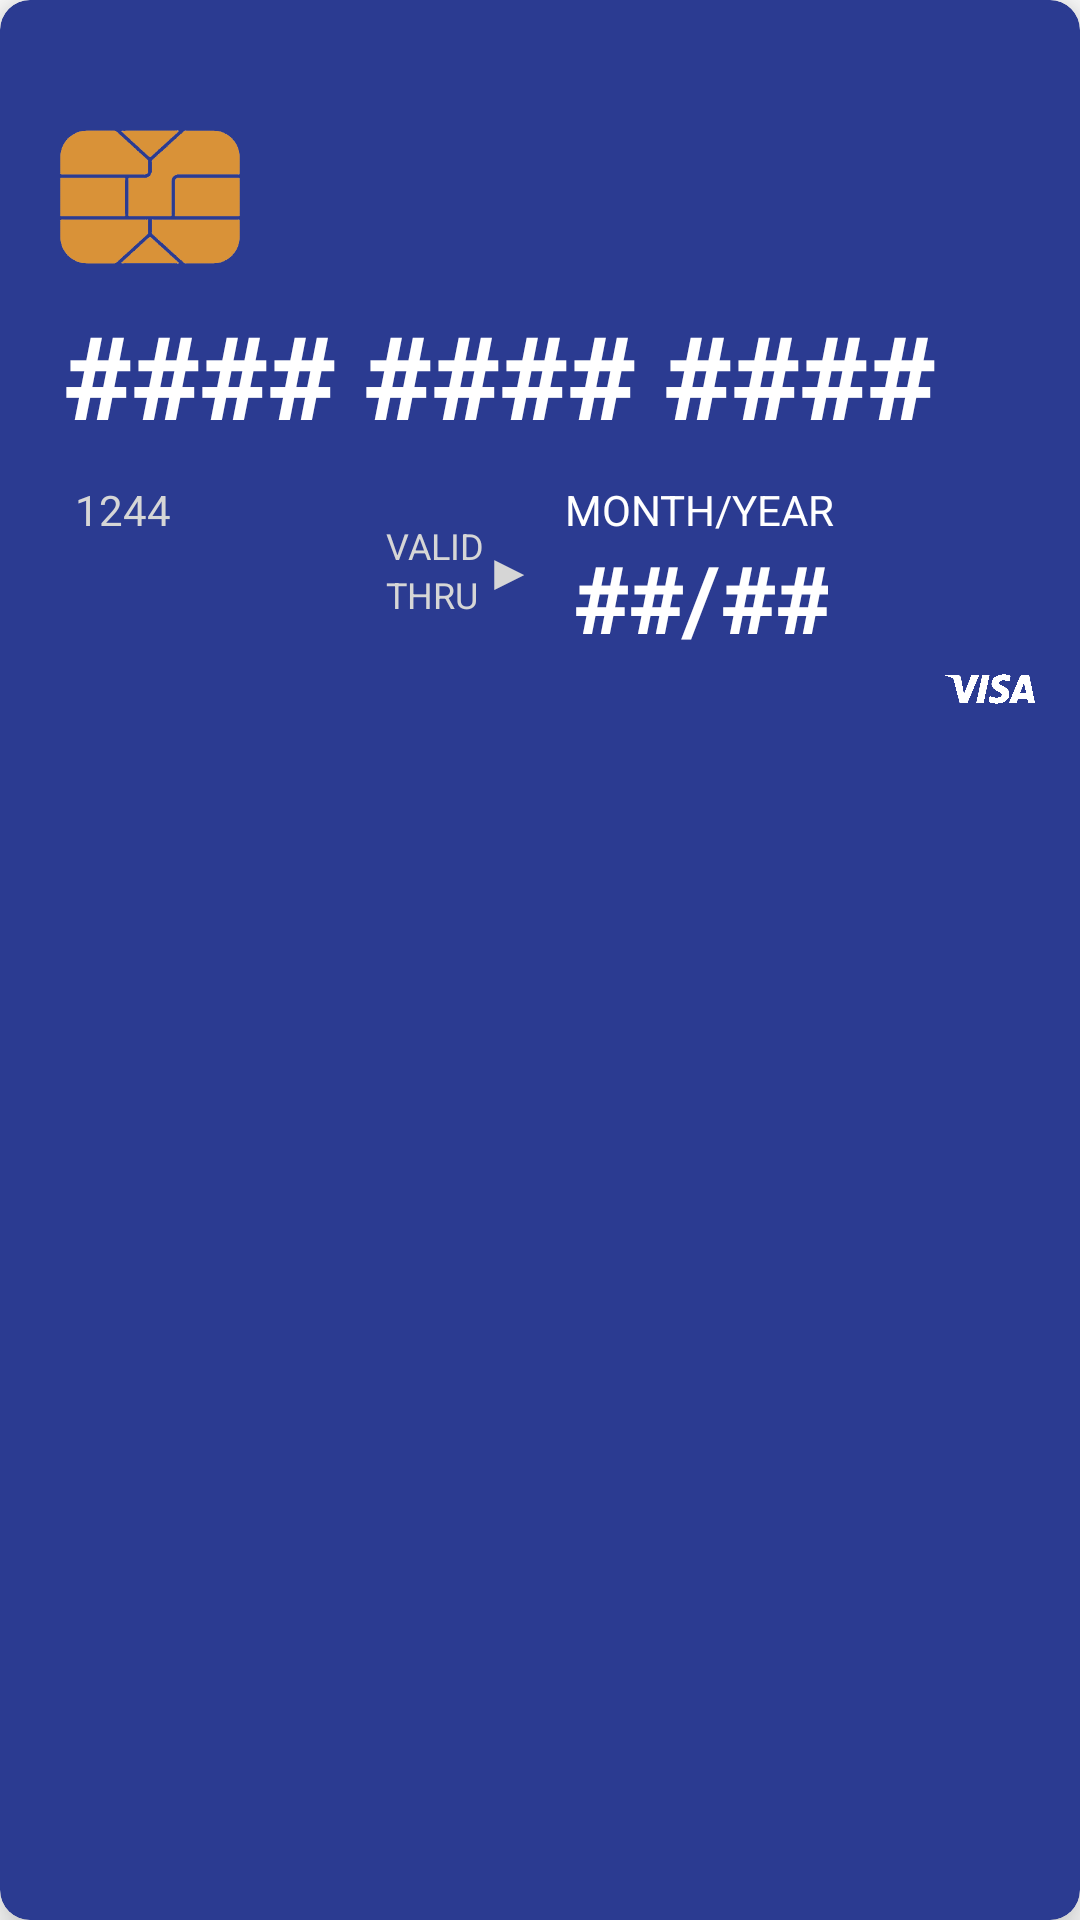

Named icons in this screenshot (1080×1920) and their centers, point (x, y):
credit card chip: point (150, 197)
